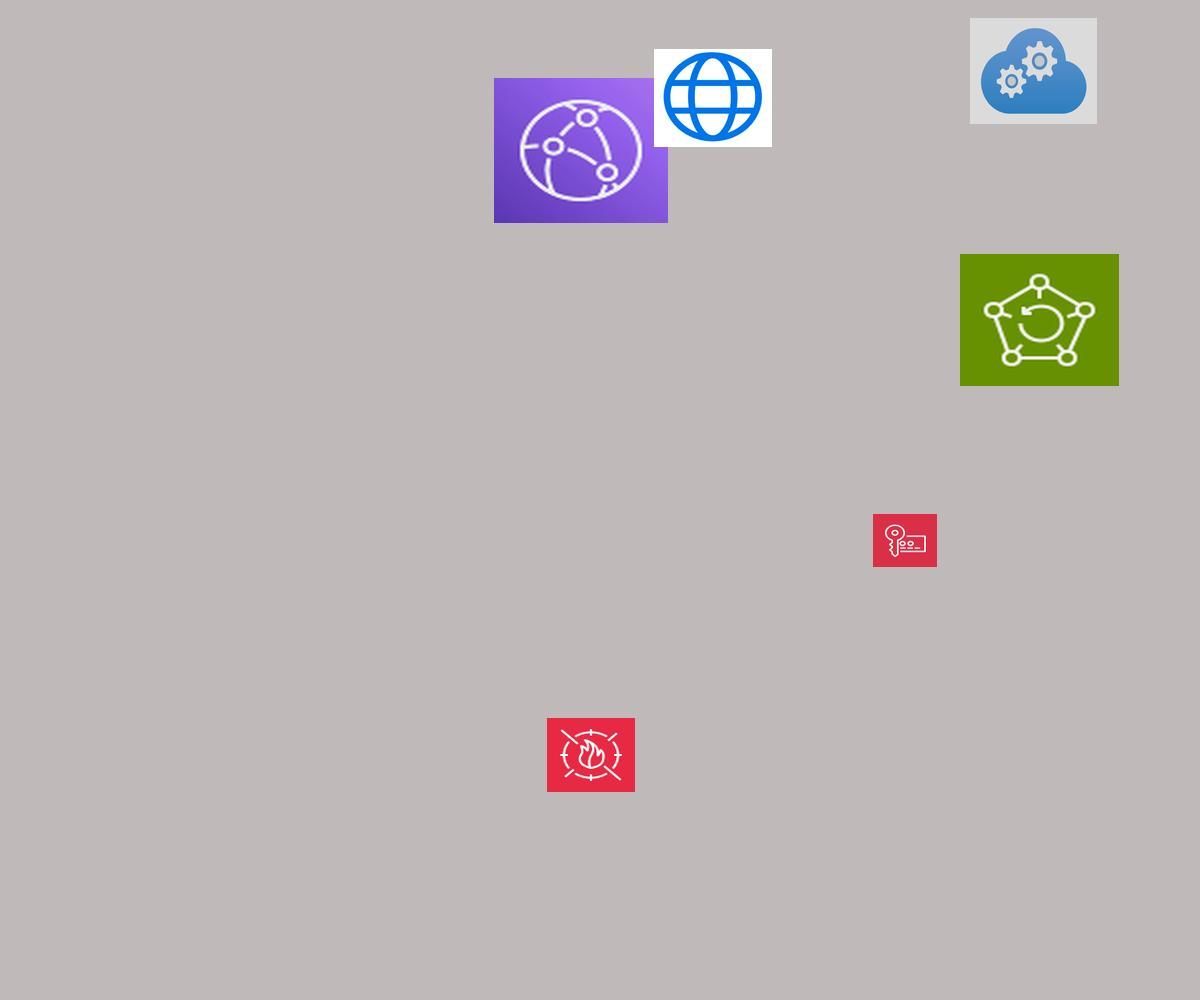AWS-Backup: (960, 254, 1119, 386)
AWS-CloudFront: (494, 78, 668, 223)
AWS-Key-Management-Service: (873, 514, 937, 567)
AWS-WAF: (547, 718, 635, 792)
Azure_cloud_services: (970, 18, 1097, 124)
Azure_http: (654, 49, 772, 147)
